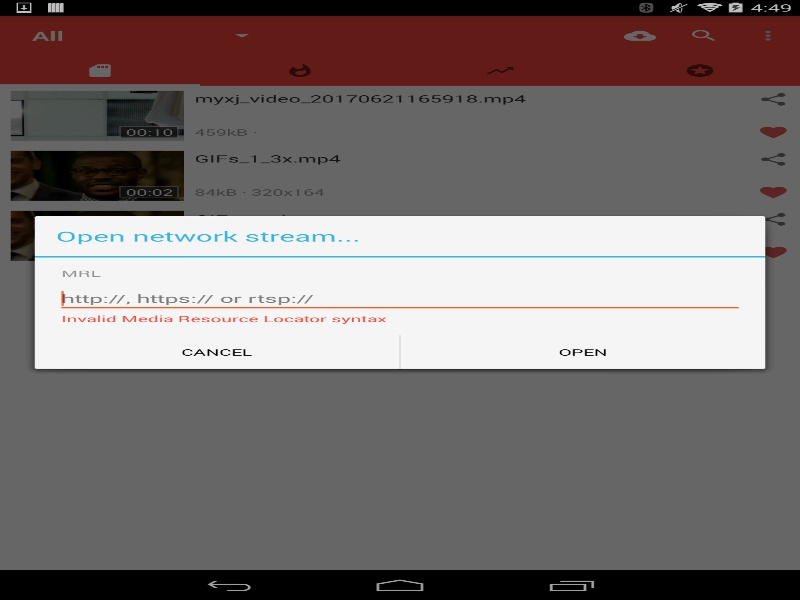Button: (34, 335, 399, 369), (400, 335, 765, 369)
Input: (56, 284, 744, 312)
